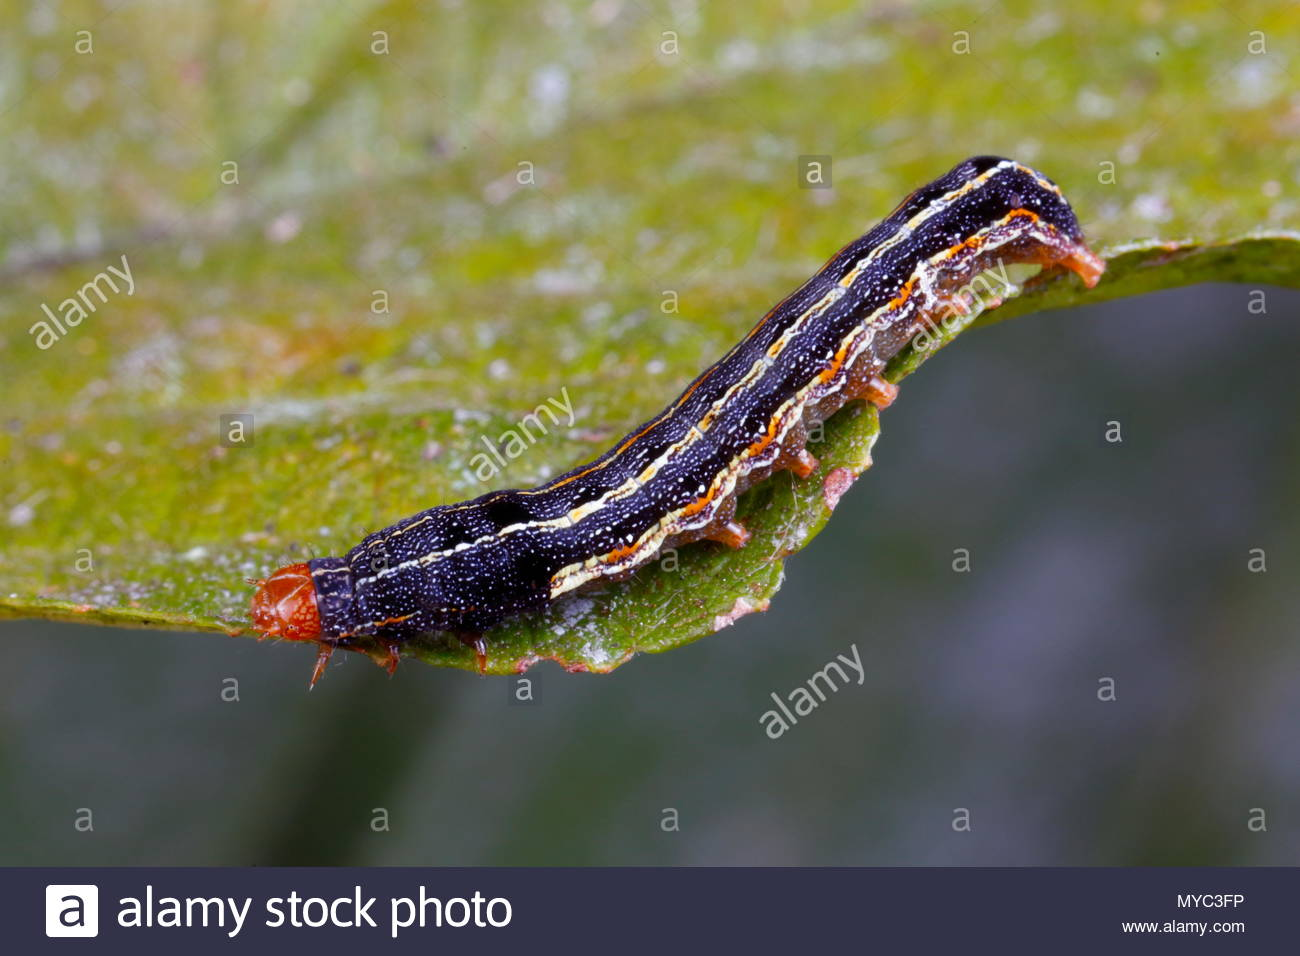Armyworm: (241, 143, 1128, 742)
